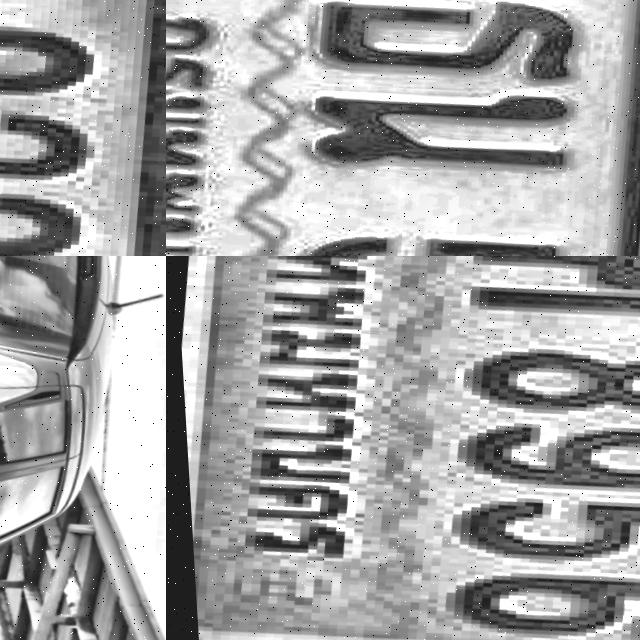license-plate: (166, 256, 640, 640), (166, 0, 640, 256), (0, 0, 166, 256)
